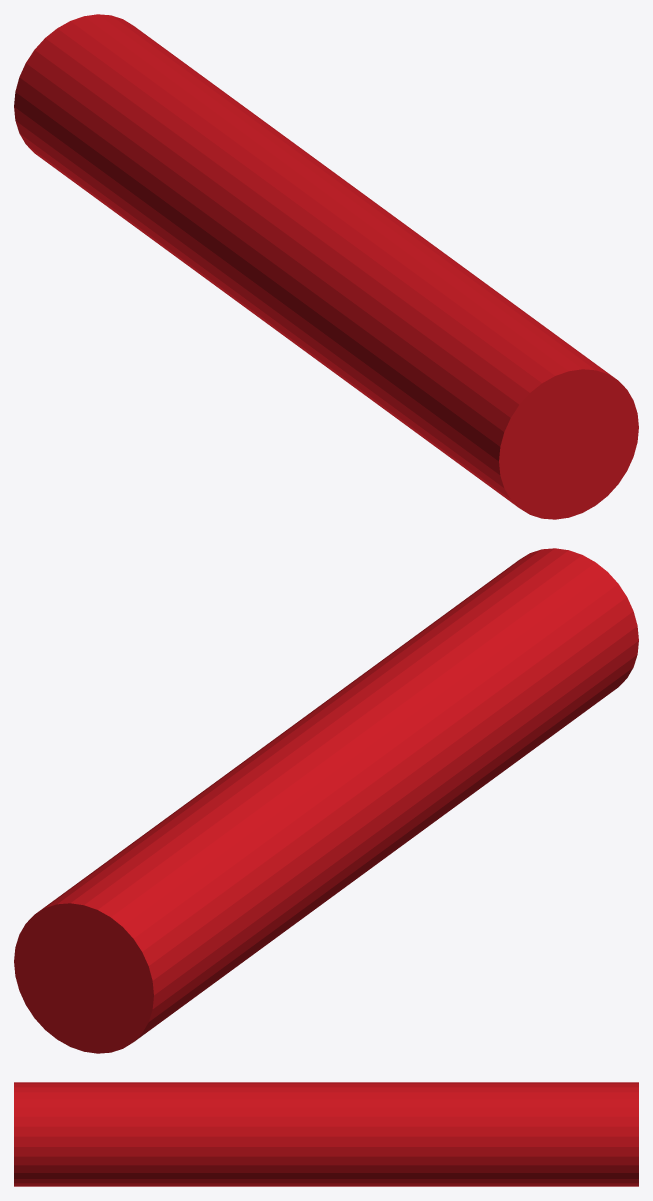
The model's file is testPaddle.obj.
The picture shows the model from 3 angles, top to bottom: view 1: azimuth 30°, elevation 25°; view 2: azimuth 150°, elevation 25°; view 3: azimuth 270°, elevation 25°; orthographic projection. The views are drawn at different scales.
Visible parts, largest first — view 1: Cylinder; view 2: Cylinder; view 3: Cylinder.
Part boxes in pixels (left/top/right/bottom): Cylinder: left=14, top=14, right=638, bottom=519; Cylinder: left=14, top=548, right=638, bottom=1053; Cylinder: left=14, top=1082, right=638, bottom=1186.
Size of the model in its own units: 2 by 2 by 12.
